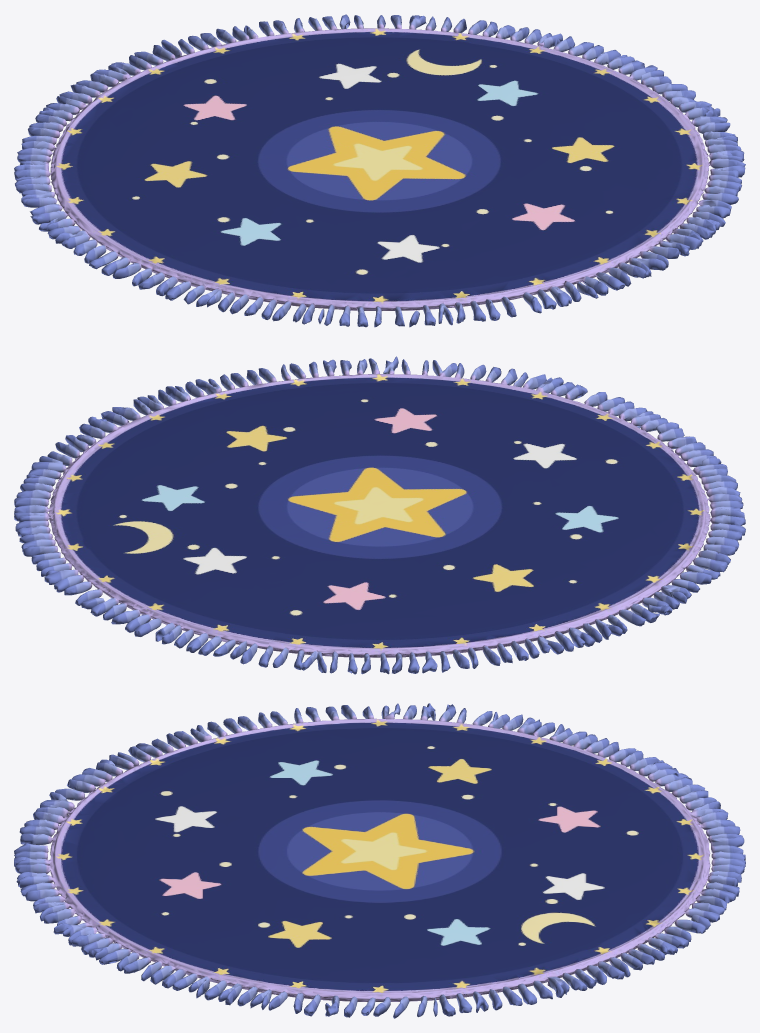
Rendered from starRug.glb.
3 views of the same model, one above another, from view 1: azimuth 30°, elevation 25°; view 2: azimuth 150°, elevation 25°; view 3: azimuth 270°, elevation 25° (orthographic).
Bounding box in the file's own units: 1 × 0.025 × 1.
Materials: 1 (1 with a texture image).
